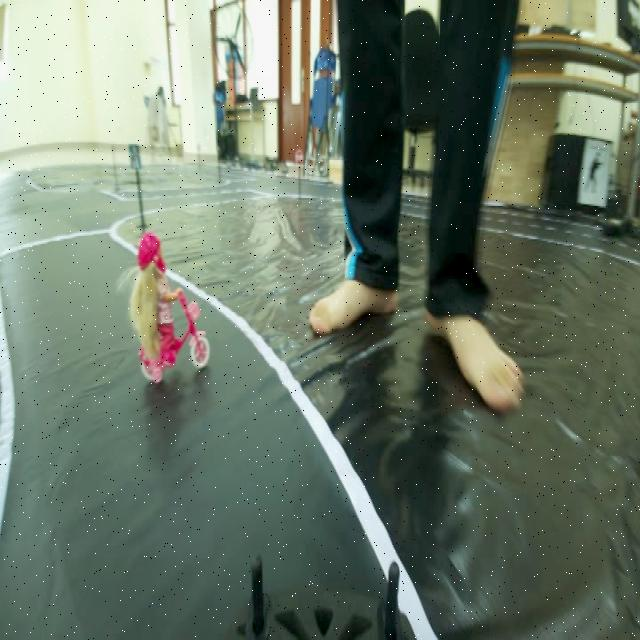pedestrian: (126, 227, 227, 400)
